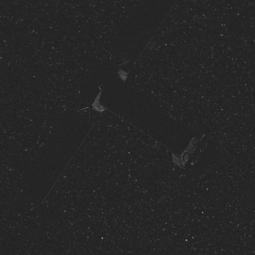xmm_newton: (68, 52, 206, 174)
